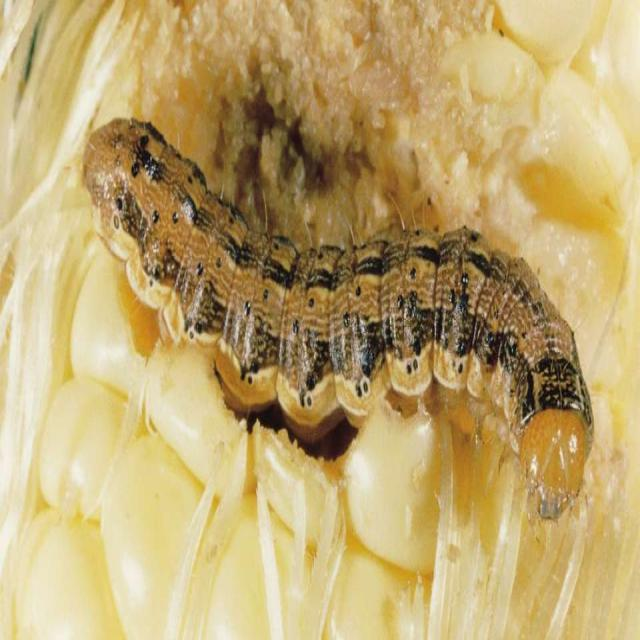Corn-earworm: (83, 107, 599, 533)
